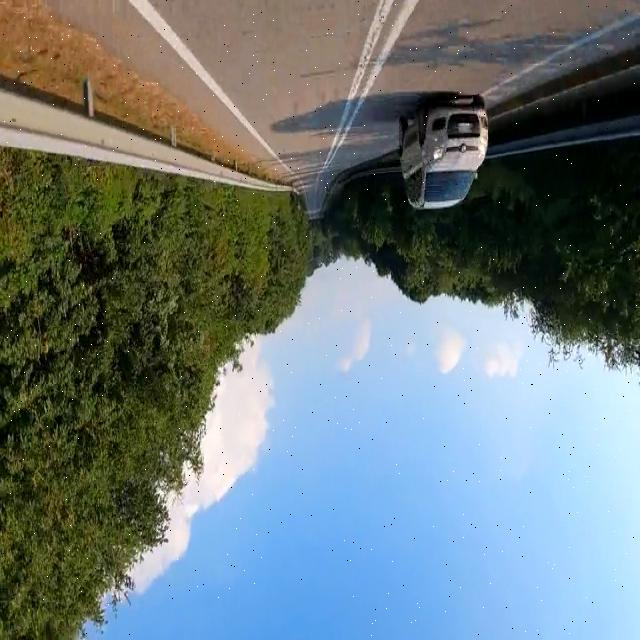lane: (130, 1, 292, 173), (321, 1, 418, 172), (323, 0, 392, 169)
